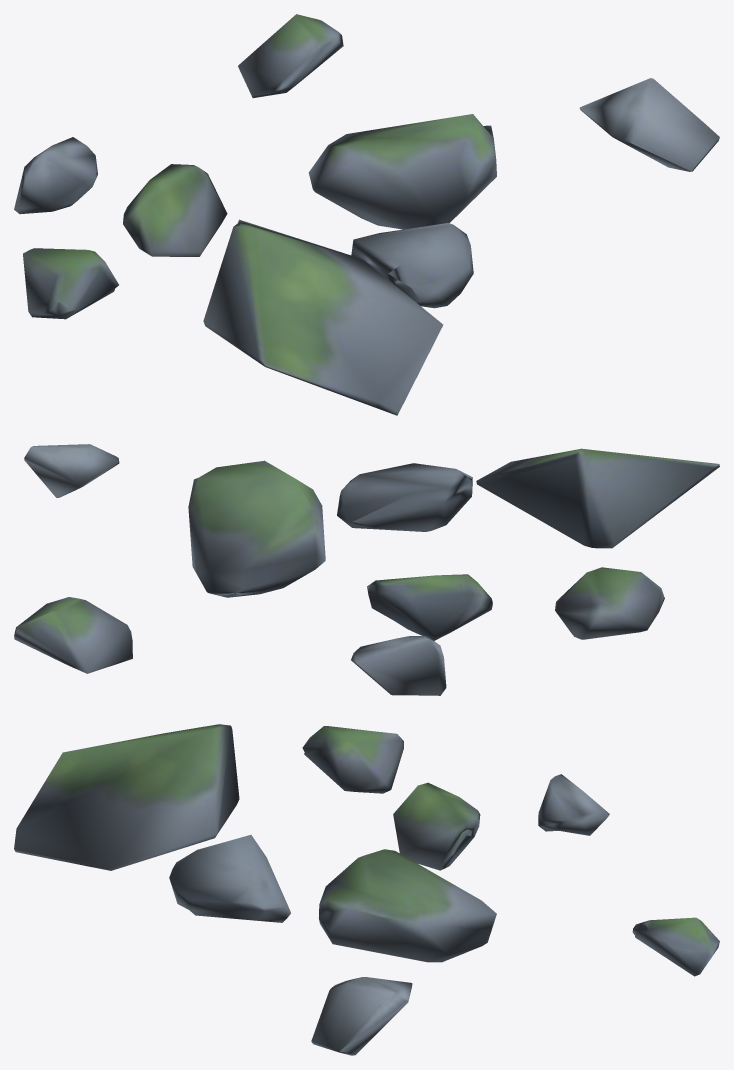
The model's file is riverbank_stones_lod1.glb.
3 renders of one model, top to bottom at view 1: azimuth 30°, elevation 25°; view 2: azimuth 150°, elevation 25°; view 3: azimuth 270°, elevation 25°, orthographic. The views are drawn at different scales.
Parts seen in each view (by area): view 1: riverbank_stones_lod1; view 2: riverbank_stones_lod1; view 3: riverbank_stones_lod1.
Part boxes in pixels (x1=…): riverbank_stones_lod1: x1=14, y1=14, x2=719, y2=415; riverbank_stones_lod1: x1=14, y1=444, x2=719, y2=695; riverbank_stones_lod1: x1=14, y1=724, x2=719, y2=1055.
Bounding box in the file's own units: 1.88 × 0.3144 × 1.84.
1 material, 1 textured.
